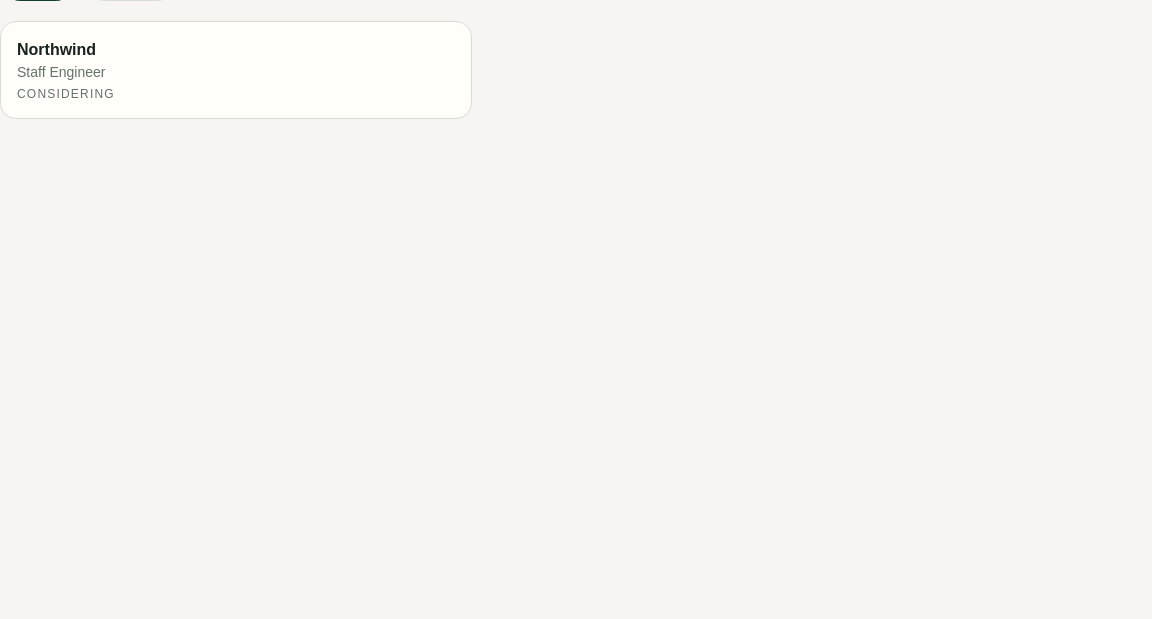
Test: ApplicationsView › shows an honest empty state, labeled as recent rather than complete, when no practice is linked
The width and height of the screenshot is (1152, 619).
Click the button "Northwind Staff Engineer considering" at [57, 50], box [0,21,472,119]
(page scrolled)
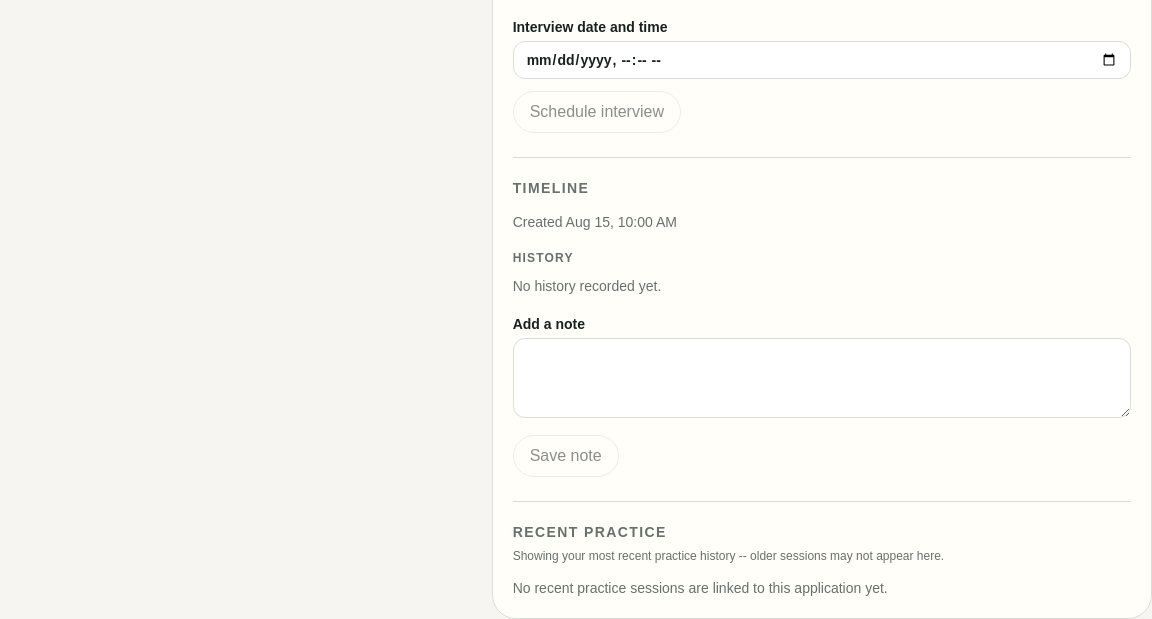
Expected: the text "No recent practice" is shown, [513,580,888,596]
